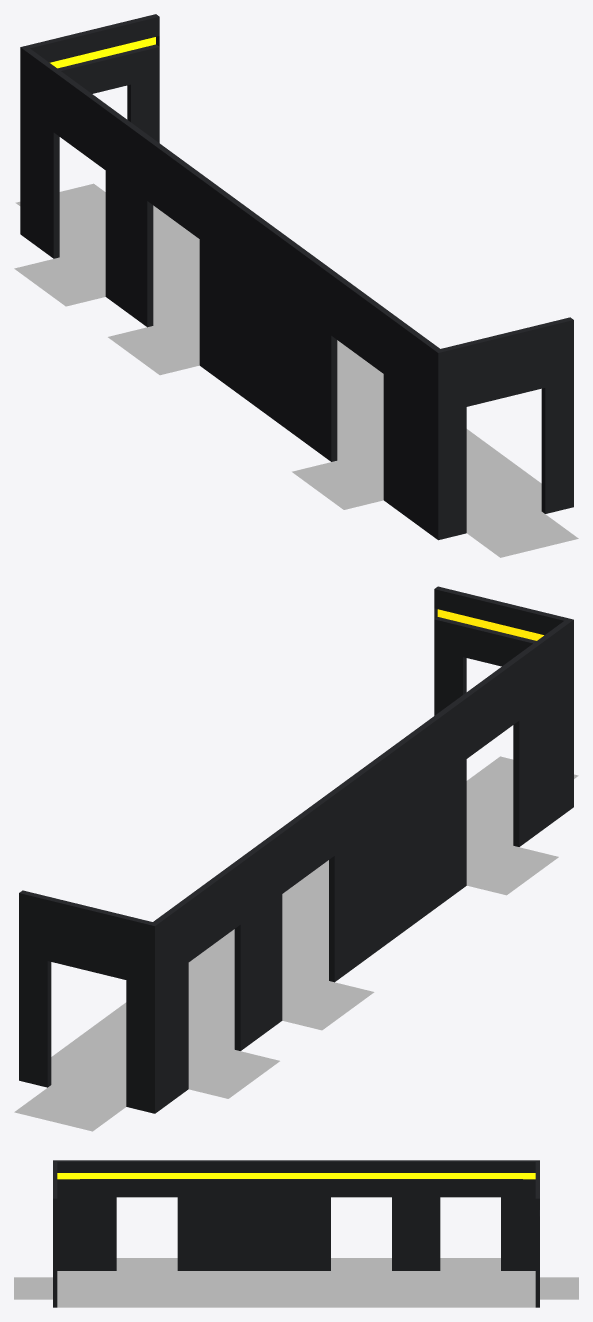
File: couloir.fbx
3 renders of one model, top to bottom at view 1: azimuth 30°, elevation 25°; view 2: azimuth 150°, elevation 25°; view 3: azimuth 270°, elevation 25°, orthographic. The views are drawn at different scales.
Parts seen in each view (by area): view 1: Plane; view 2: Plane; view 3: Plane.
Part boxes in pixels (box(x1,y1,x2,y2)): Plane: box(14, 14, 578, 557); Plane: box(14, 586, 578, 1131); Plane: box(14, 1160, 578, 1307).
Bounding box in the file's own units: 1404 × 293 × 299.
